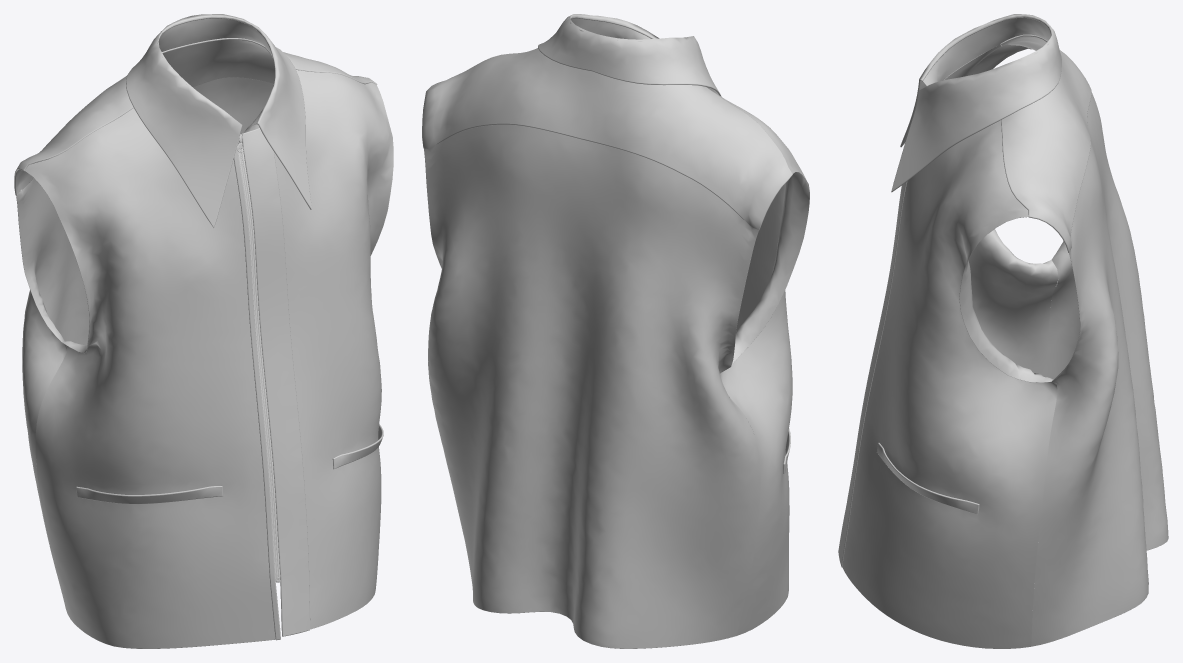
File: Bodice 1378.gltf
3 renders of one model, left to right at view 1: azimuth 30°, elevation 25°; view 2: azimuth 150°, elevation 25°; view 3: azimuth 270°, elevation 25°, orthographic. The views are drawn at different scales.
Visible parts, largest first — view 1: Cloth, Pattern_31039480, ZipperPattern_1335256, ZipperPattern_1335207, Graphic_1335365, Graphic_1335412, Pattern_31039481; view 2: Cloth; view 3: Cloth, Pattern_31039481.
Boxes of the visible parts, bbox=[...] form: Cloth: bbox=[14, 14, 393, 648]; Pattern_31039480: bbox=[76, 485, 222, 504]; ZipperPattern_1335256: bbox=[240, 134, 280, 581]; ZipperPattern_1335207: bbox=[237, 143, 276, 581]; Graphic_1335365: bbox=[239, 143, 277, 577]; Graphic_1335412: bbox=[240, 143, 278, 577]; Pattern_31039481: bbox=[332, 424, 383, 469]; Cloth: bbox=[422, 14, 809, 648]; Cloth: bbox=[838, 14, 1168, 648]; Pattern_31039481: bbox=[877, 443, 979, 514].
Size of the model in its own units: 0.5337 by 0.8088 by 0.4388.
13 materials, 12 textured.
